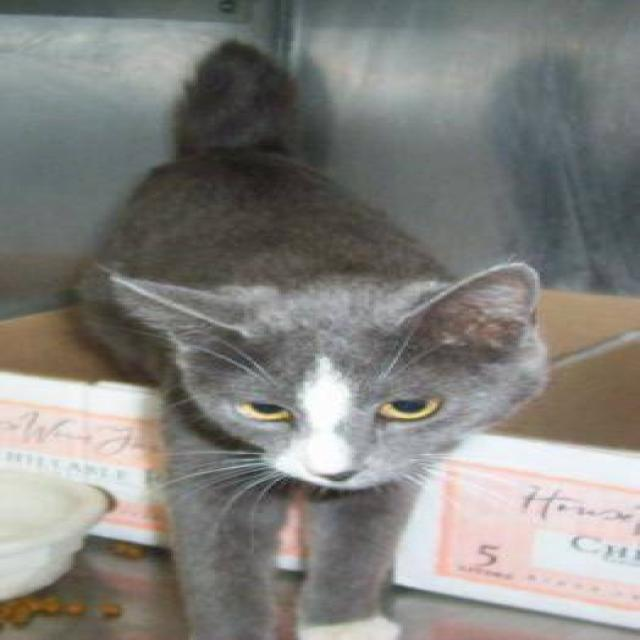cat: (68, 37, 552, 639)
